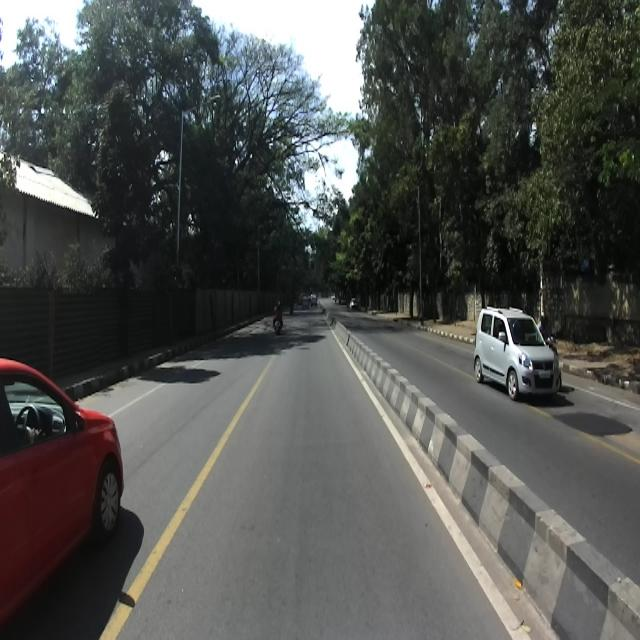Car_Maruti-Suzuki: (473, 305, 559, 400)
Car_Volkswagen: (0, 356, 124, 636)
